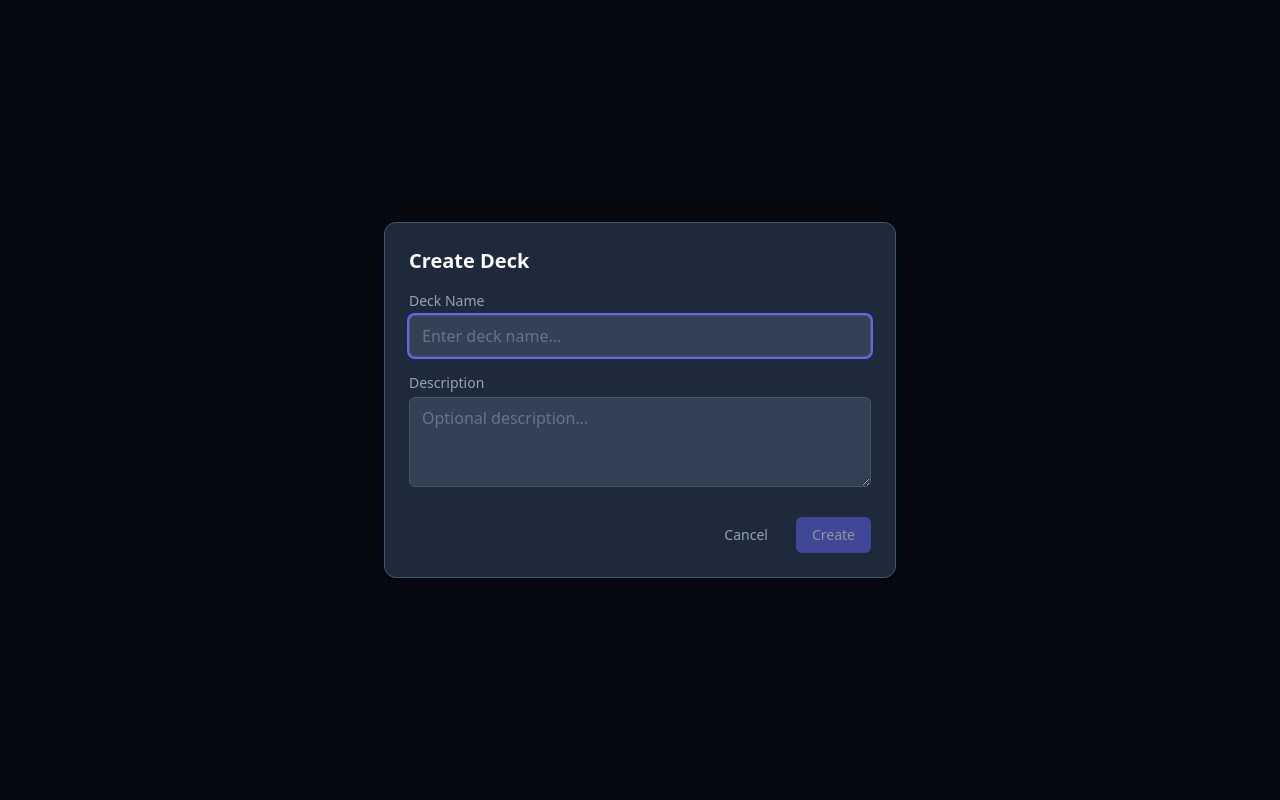
Scenario: DeckCreateModal › shows loading state during creation
This screenshot has width=1280, height=800.
In the field with test id "create-deck-name-input": [640, 336] box top-left (409, 315), bottom-right (871, 357), type "My Deck"
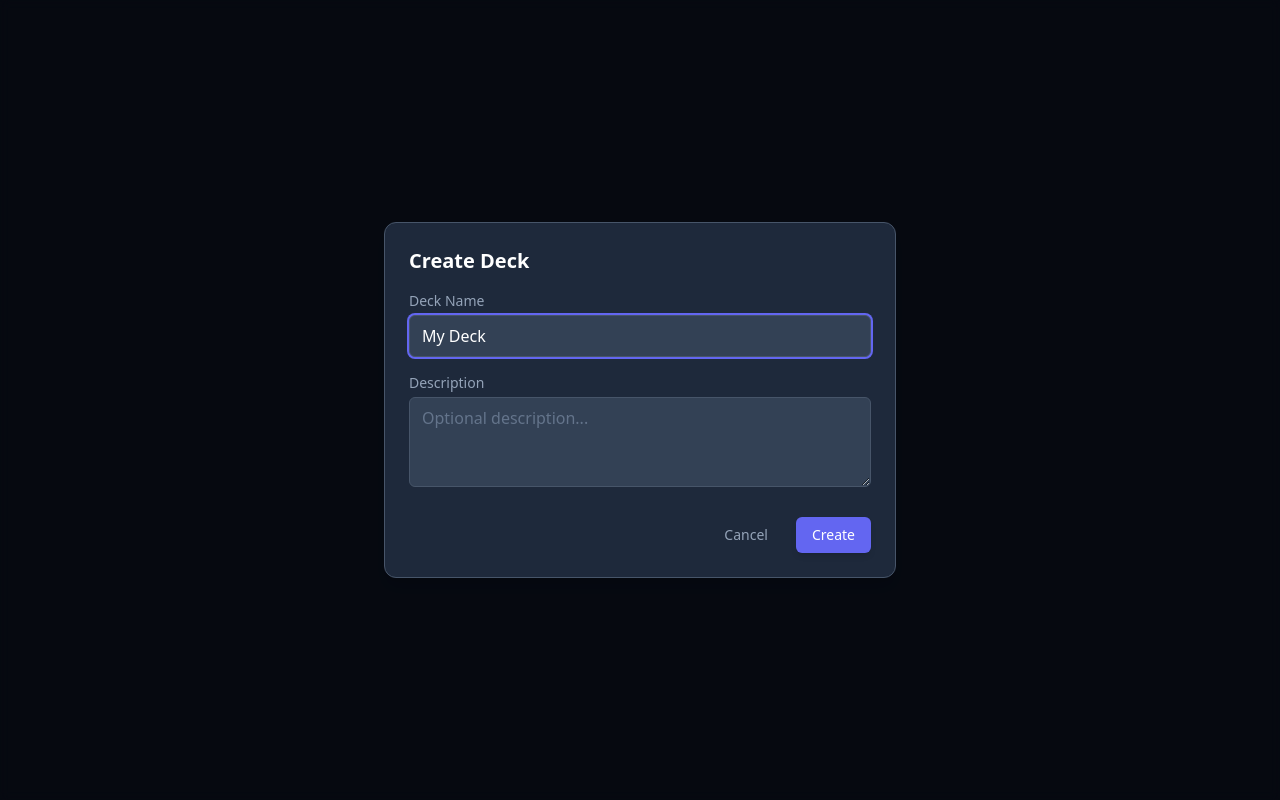
Click the button with test id "submit-create-btn": [833, 535] box top-left (796, 517), bottom-right (871, 553)
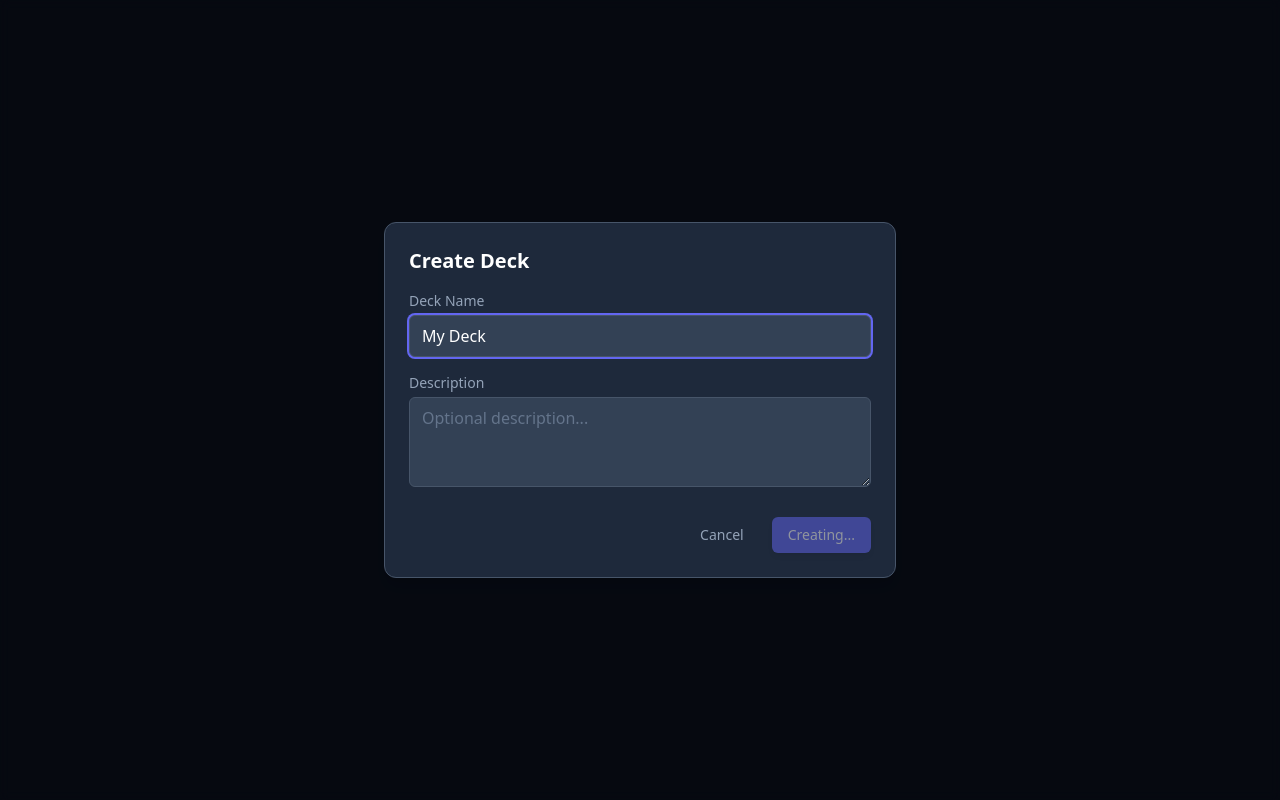
Expected: the button with test id "submit-create-btn" reads "Creating...", top-left (772, 517), bottom-right (871, 553)
